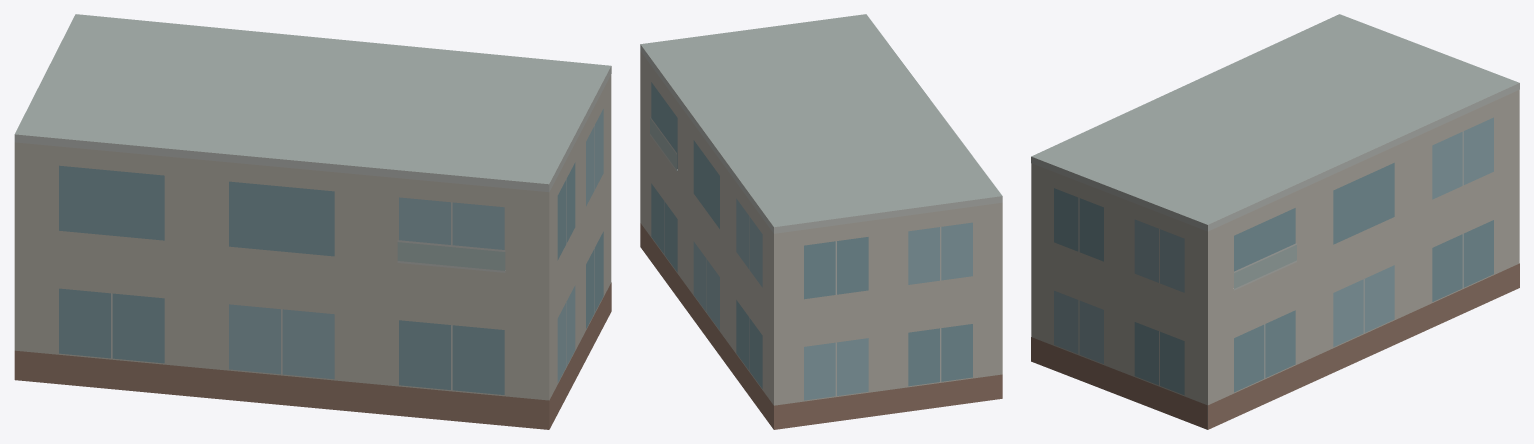
File: survey-upis-32888366.glb
3 renders of one model, left to right at view 1: azimuth 30°, elevation 25°; view 2: azimuth 150°, elevation 25°; view 3: azimuth 270°, elevation 25°, orthographic. The views are drawn at different scales.
Parts seen in each view (by area): view 1: survey-upis-32888366.tmp; view 2: survey-upis-32888366.tmp; view 3: survey-upis-32888366.tmp.
Boxes of the visible parts, box(x1,y1,x2,y2) form: survey-upis-32888366.tmp: box(14, 14, 611, 429); survey-upis-32888366.tmp: box(640, 14, 1002, 429); survey-upis-32888366.tmp: box(1031, 14, 1519, 429).
Size of the model in its own units: 16.56 by 7.5 by 16.22.
